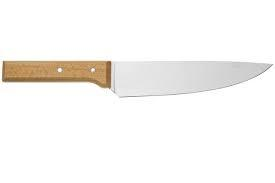Knife: (1, 59, 273, 97)
